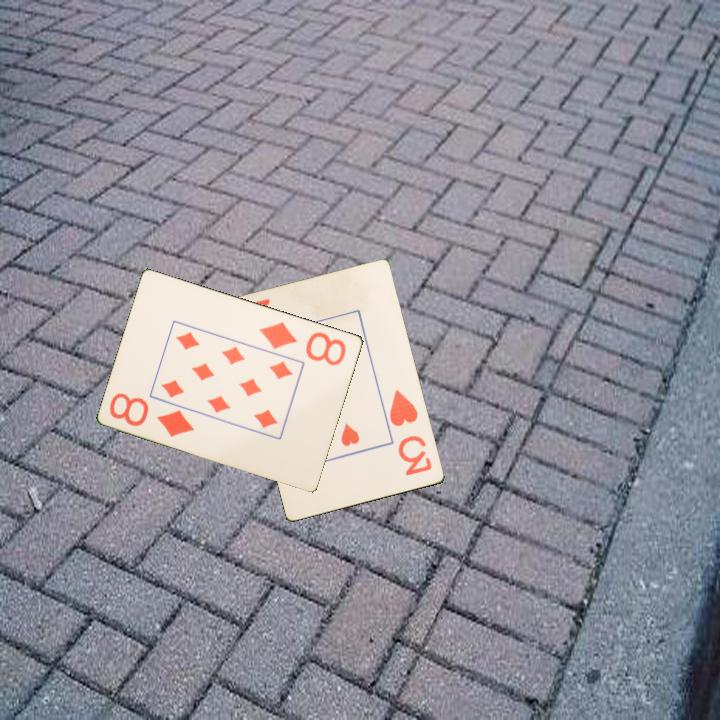3h: (386, 386, 435, 479)
8d: (106, 389, 198, 440), (256, 318, 349, 368)
